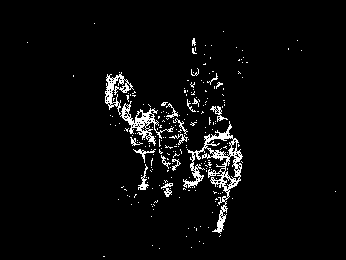person: (205, 115, 243, 238), (155, 99, 185, 202), (128, 102, 157, 196), (109, 70, 134, 130)
